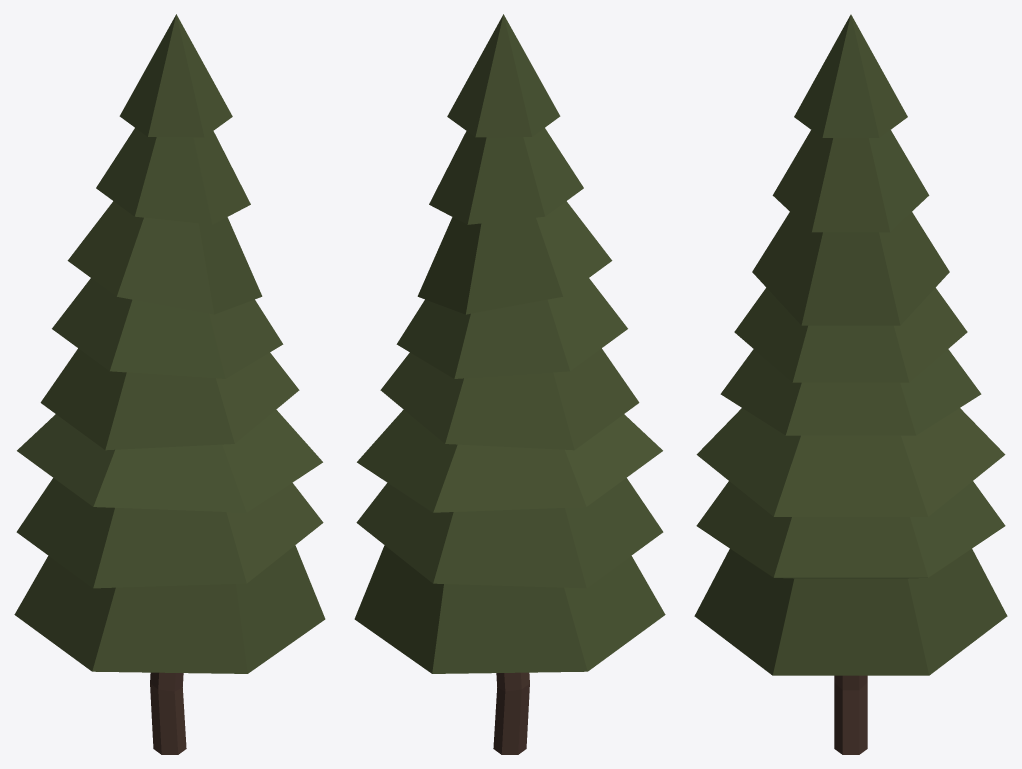
Rendered from Tree_Type1_05.glb.
The picture shows the model from 3 angles, left to right: view 1: azimuth 30°, elevation 25°; view 2: azimuth 150°, elevation 25°; view 3: azimuth 270°, elevation 25°; orthographic projection.
Visible parts, largest first — view 1: Tree Type1 05 Model; view 2: Tree Type1 05 Model; view 3: Tree Type1 05 Model.
Part boxes in pixels (x1=…): Tree Type1 05 Model: x1=14, y1=14, x2=325, y2=754; Tree Type1 05 Model: x1=354, y1=14, x2=665, y2=754; Tree Type1 05 Model: x1=694, y1=14, x2=1007, y2=754.
Size of the model in its own units: 2.2 by 6.61 by 2.54.
Materials: 1 (1 with a texture image).
